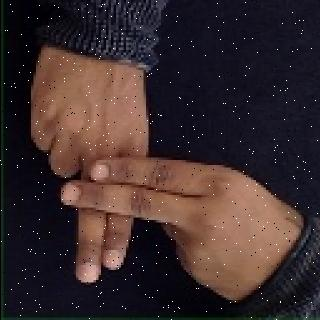F: (21, 40, 300, 301)
